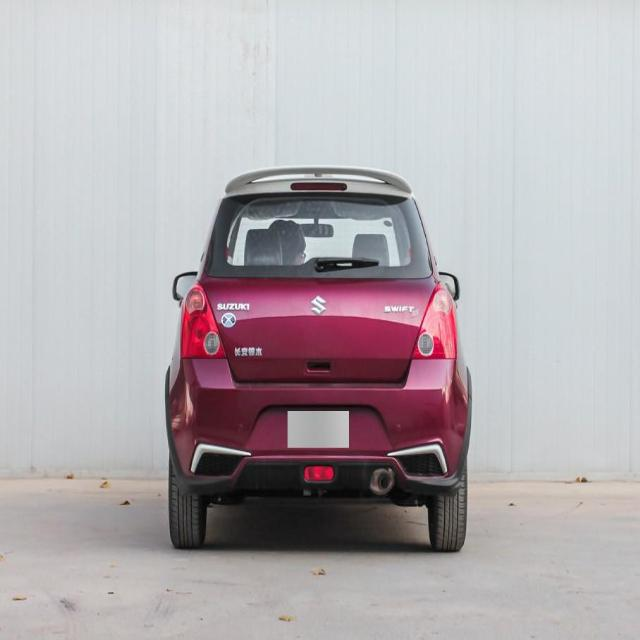back_glass: (202, 191, 432, 280)
back_left_side_light: (180, 281, 228, 360)
back_right_side_light: (412, 283, 458, 360)
front_left_side_mirror: (171, 270, 200, 303)
front_right_side_door: (438, 270, 461, 302)
rear_bumper: (165, 365, 474, 486)
